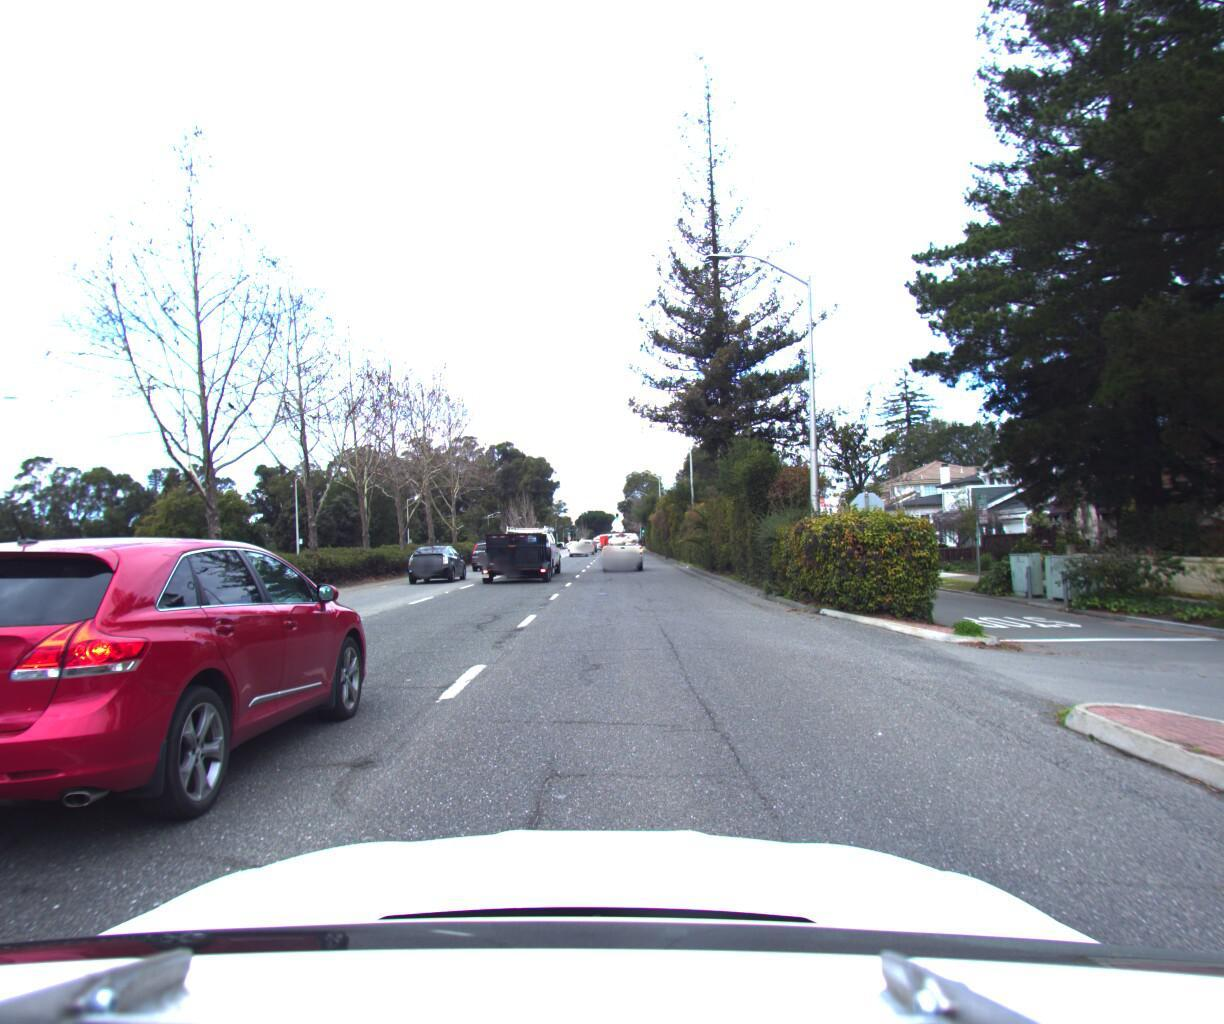car: (0, 517, 381, 903), (476, 510, 568, 579), (406, 535, 469, 577), (598, 520, 647, 566), (468, 531, 509, 563), (568, 536, 590, 553)
